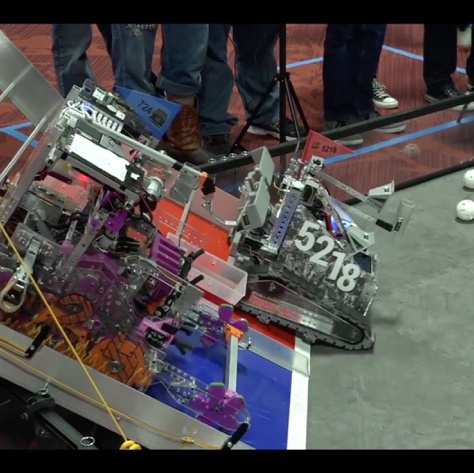robot: (0, 78, 255, 438), (227, 122, 417, 353)
